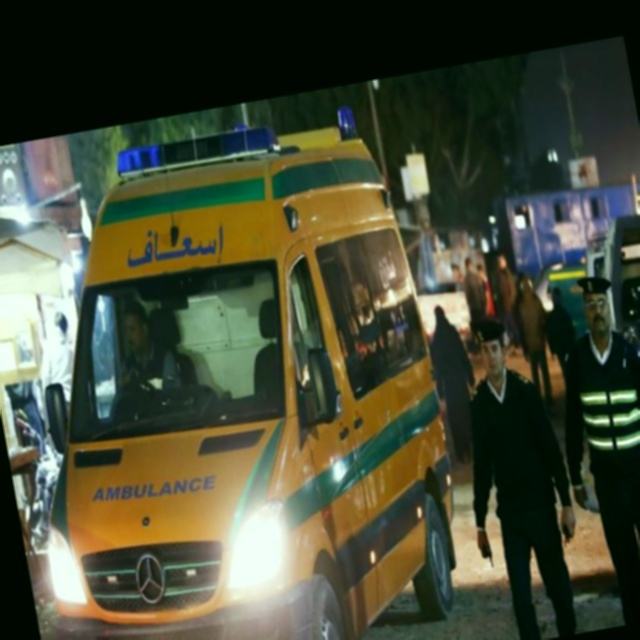Ambulance: (17, 119, 489, 640)
person: (439, 308, 596, 640), (536, 264, 640, 629), (107, 293, 185, 400)
police-car: (562, 226, 640, 340)
